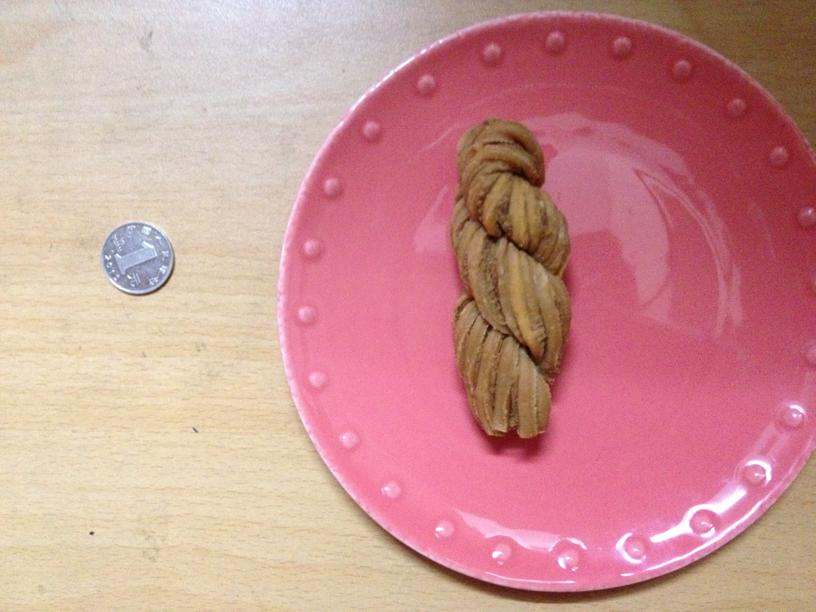coin: (100, 222, 175, 295)
fired_dough_twist: (446, 114, 571, 440)
